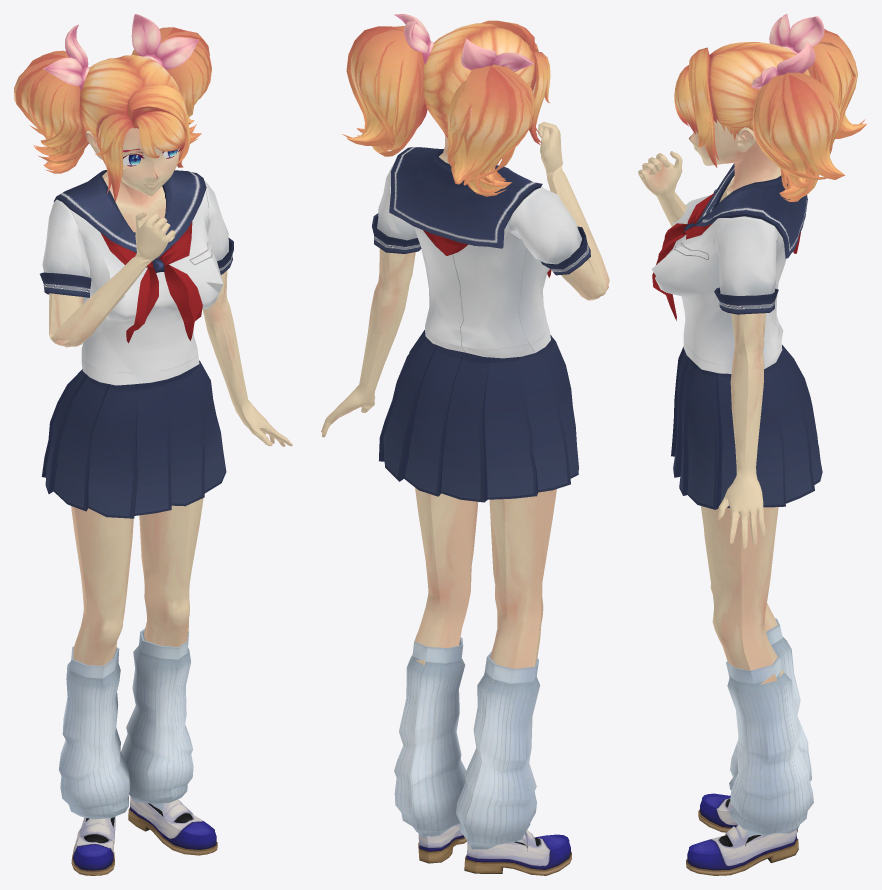
File: friend.glb
3 views of the same model, side by side, from view 1: azimuth 30°, elevation 25°; view 2: azimuth 150°, elevation 25°; view 3: azimuth 270°, elevation 25° (orthographic). The views are drawn at different scales.
Visible parts, largest first — view 1: Object_3, Object_6, Object_2, Object_5, Object_4; view 2: Object_3, Object_6, Object_5, Object_2; view 3: Object_3, Object_6, Object_2, Object_4, Object_5.
Boxes of the visible parts, <box> form: Object_3: <box>40,170,292,875</box>; Object_6: <box>14,14,211,201</box>; Object_2: <box>121,628,193,803</box>; Object_5: <box>59,646,130,819</box>; Object_4: <box>85,127,180,210</box>; Object_3: <box>321,121,609,875</box>; Object_6: <box>342,14,550,196</box>; Object_5: <box>456,651,540,849</box>; Object_2: <box>394,633,466,837</box>; Object_3: <box>638,151,822,875</box>; Object_6: <box>674,14,866,201</box>; Object_2: <box>726,653,813,835</box>; Object_4: <box>689,119,781,193</box>; Object_5: <box>729,618,811,790</box>.
Bounding box in the file's own units: 0.551 × 1.68 × 0.4264.
Materials: 5 (5 with a texture image).
